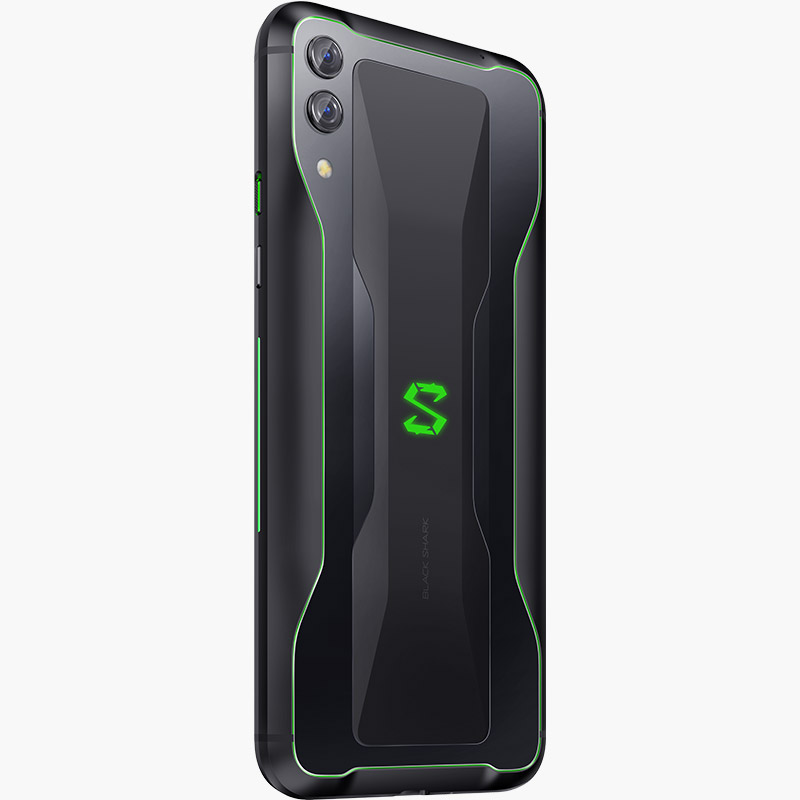Phone: (250, 1, 556, 800)
